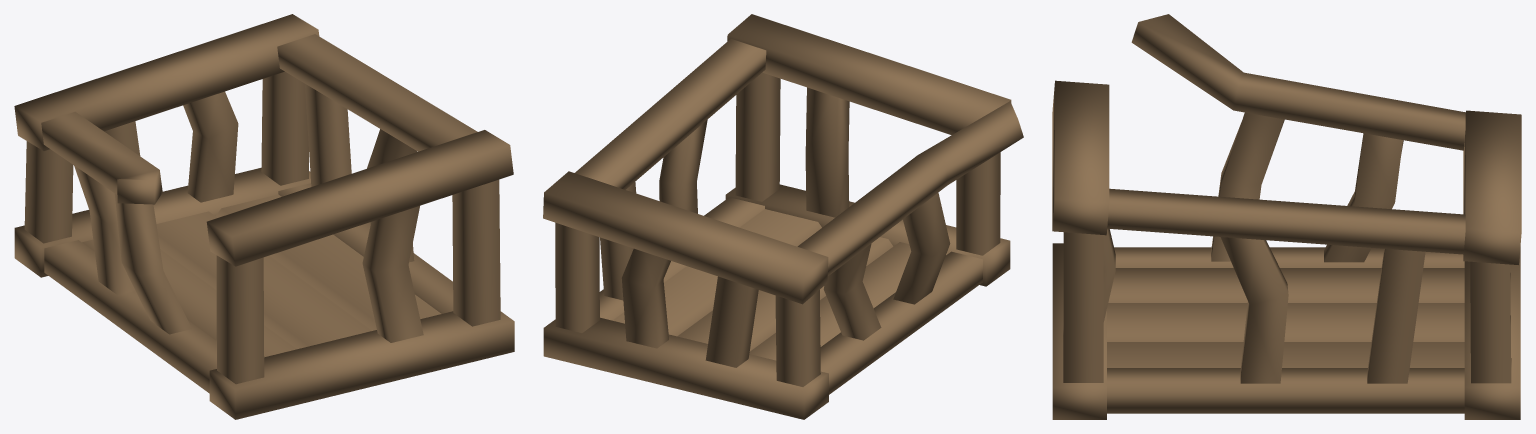
File: rpgpp_av_crate_01.gltf
3 views of the same model, side by side, from view 1: azimuth 30°, elevation 25°; view 2: azimuth 150°, elevation 25°; view 3: azimuth 270°, elevation 25° (orthographic). The views are drawn at different scales.
Visible parts, largest first — view 1: rpgpp_av_crate_01; view 2: rpgpp_av_crate_01; view 3: rpgpp_av_crate_01.
Part boxes in pixels (box(x1,y1,x2,y2)): rpgpp_av_crate_01: box(14, 14, 514, 419); rpgpp_av_crate_01: box(543, 14, 1023, 419); rpgpp_av_crate_01: box(1052, 14, 1521, 419).
Bounding box in the file's own units: 0.00759 × 0.00459 × 0.00839.
Materials: 1 (1 with a texture image).
